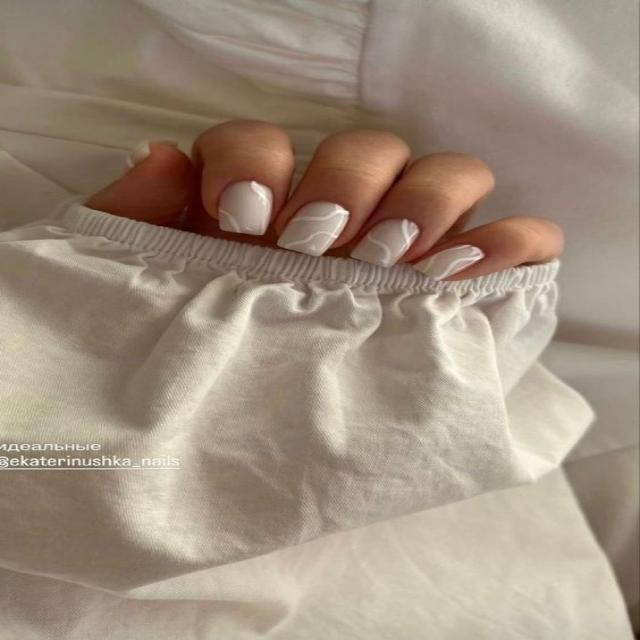Fingernail: (279, 202, 348, 254), (350, 219, 418, 264), (219, 181, 273, 234), (419, 245, 482, 279)
